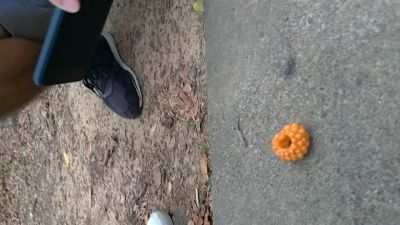eggs: (271, 123, 312, 162)
